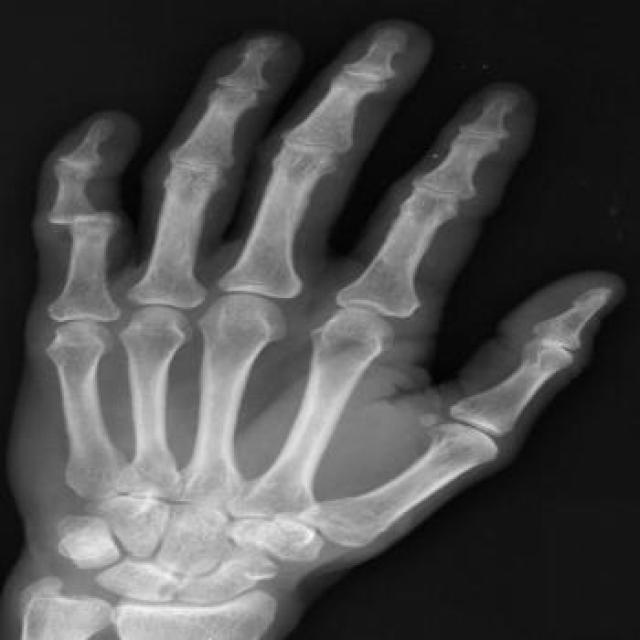Fracture: (44, 199, 130, 238)
